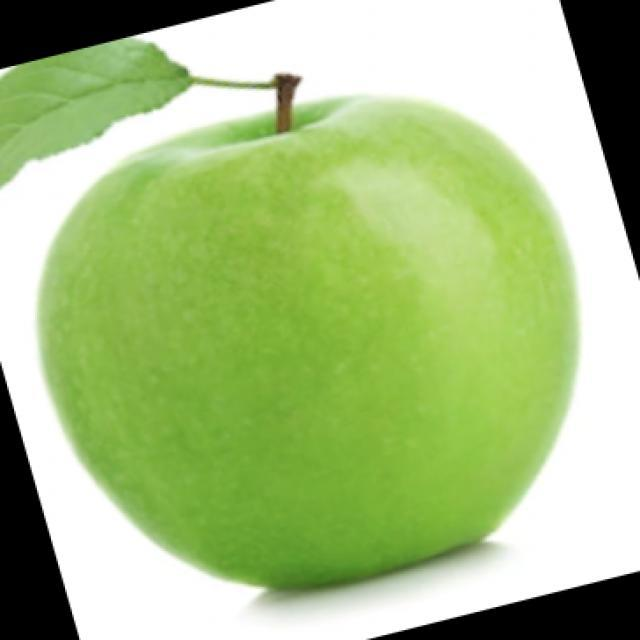Fresh Apple: (54, 109, 564, 578)
